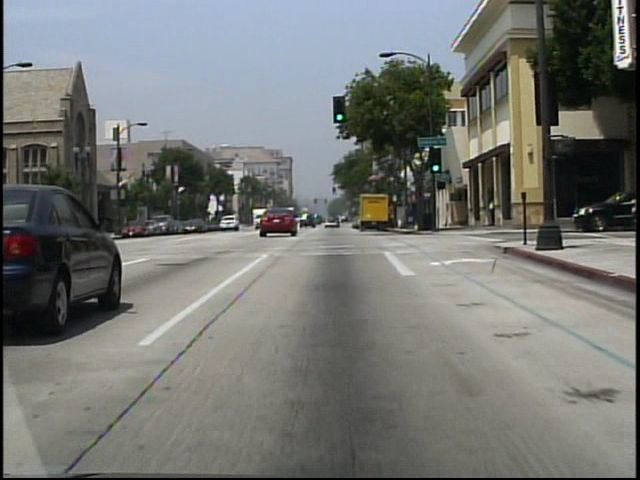person: (486, 195, 497, 230)
